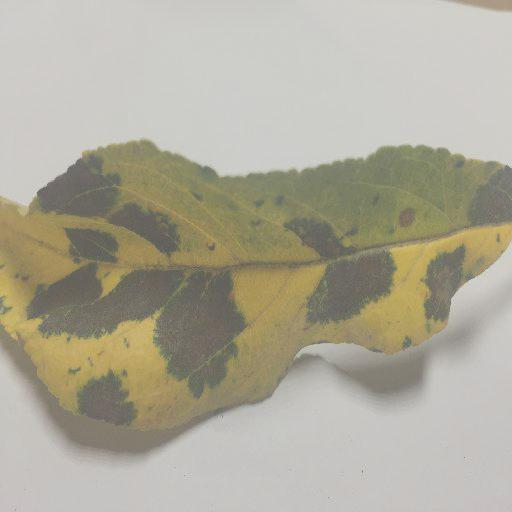Brown_Spot: (31, 282, 172, 332), (166, 291, 225, 378), (310, 258, 387, 320), (120, 206, 183, 259), (48, 165, 114, 215), (429, 247, 460, 320), (84, 380, 125, 421), (403, 212, 414, 227)
